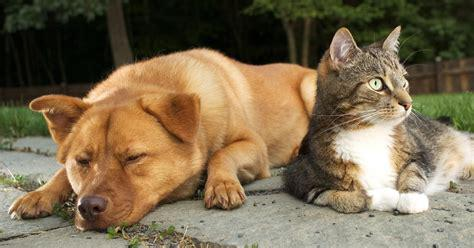cat: (285, 26, 473, 212)
dog: (9, 50, 316, 231)
